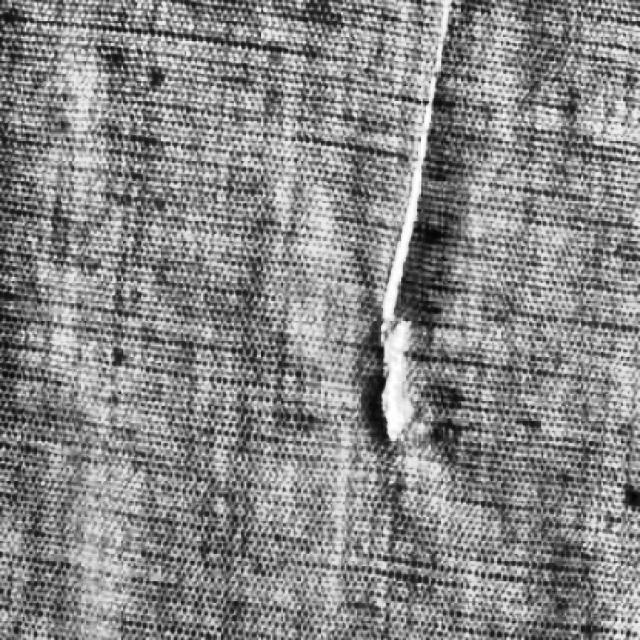hole: (345, 1, 472, 471)
